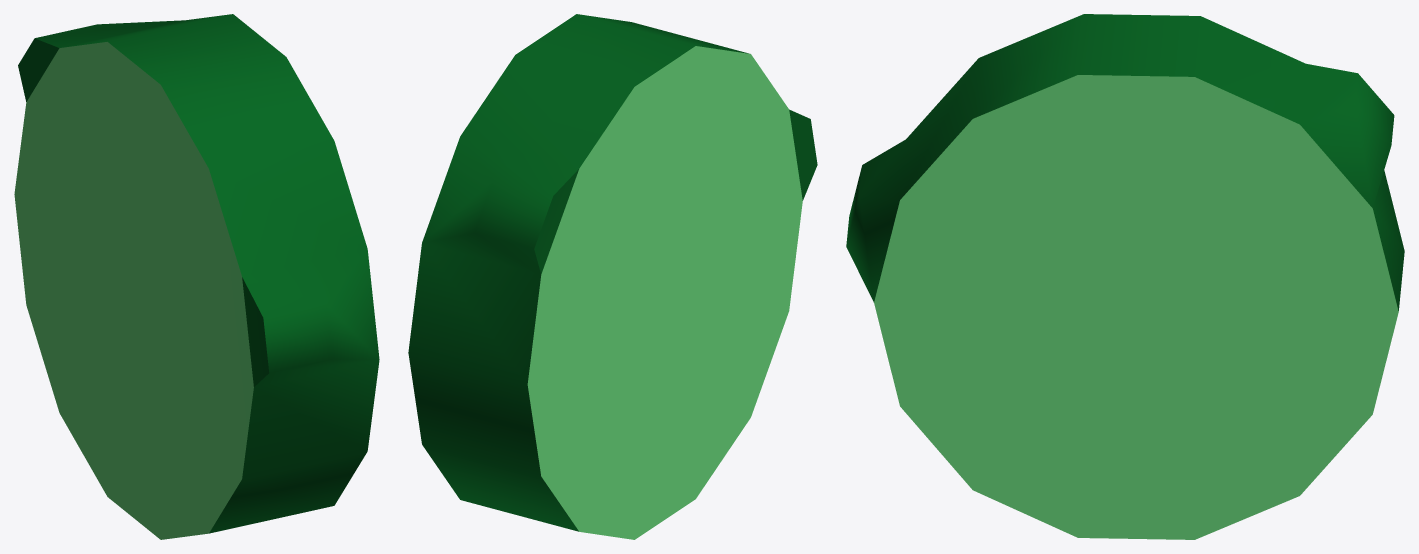
Rendered from mesh_PickleSlice_Stage08.fbx.
3 views of the same model, side by side, from view 1: azimuth 30°, elevation 25°; view 2: azimuth 150°, elevation 25°; view 3: azimuth 270°, elevation 25° (orthographic). The views are drawn at different scales.
Visible parts, largest first — view 1: mesh_PickleSlice_Stage08; view 2: mesh_PickleSlice_Stage08; view 3: mesh_PickleSlice_Stage08.
Boxes of the visible parts, x1,y1,x2,y2 form: mesh_PickleSlice_Stage08: (14, 14, 379, 539); mesh_PickleSlice_Stage08: (408, 14, 817, 539); mesh_PickleSlice_Stage08: (846, 14, 1404, 539).
Size of the model in its own units: 0.0105 by 0.0325 by 0.0355.
